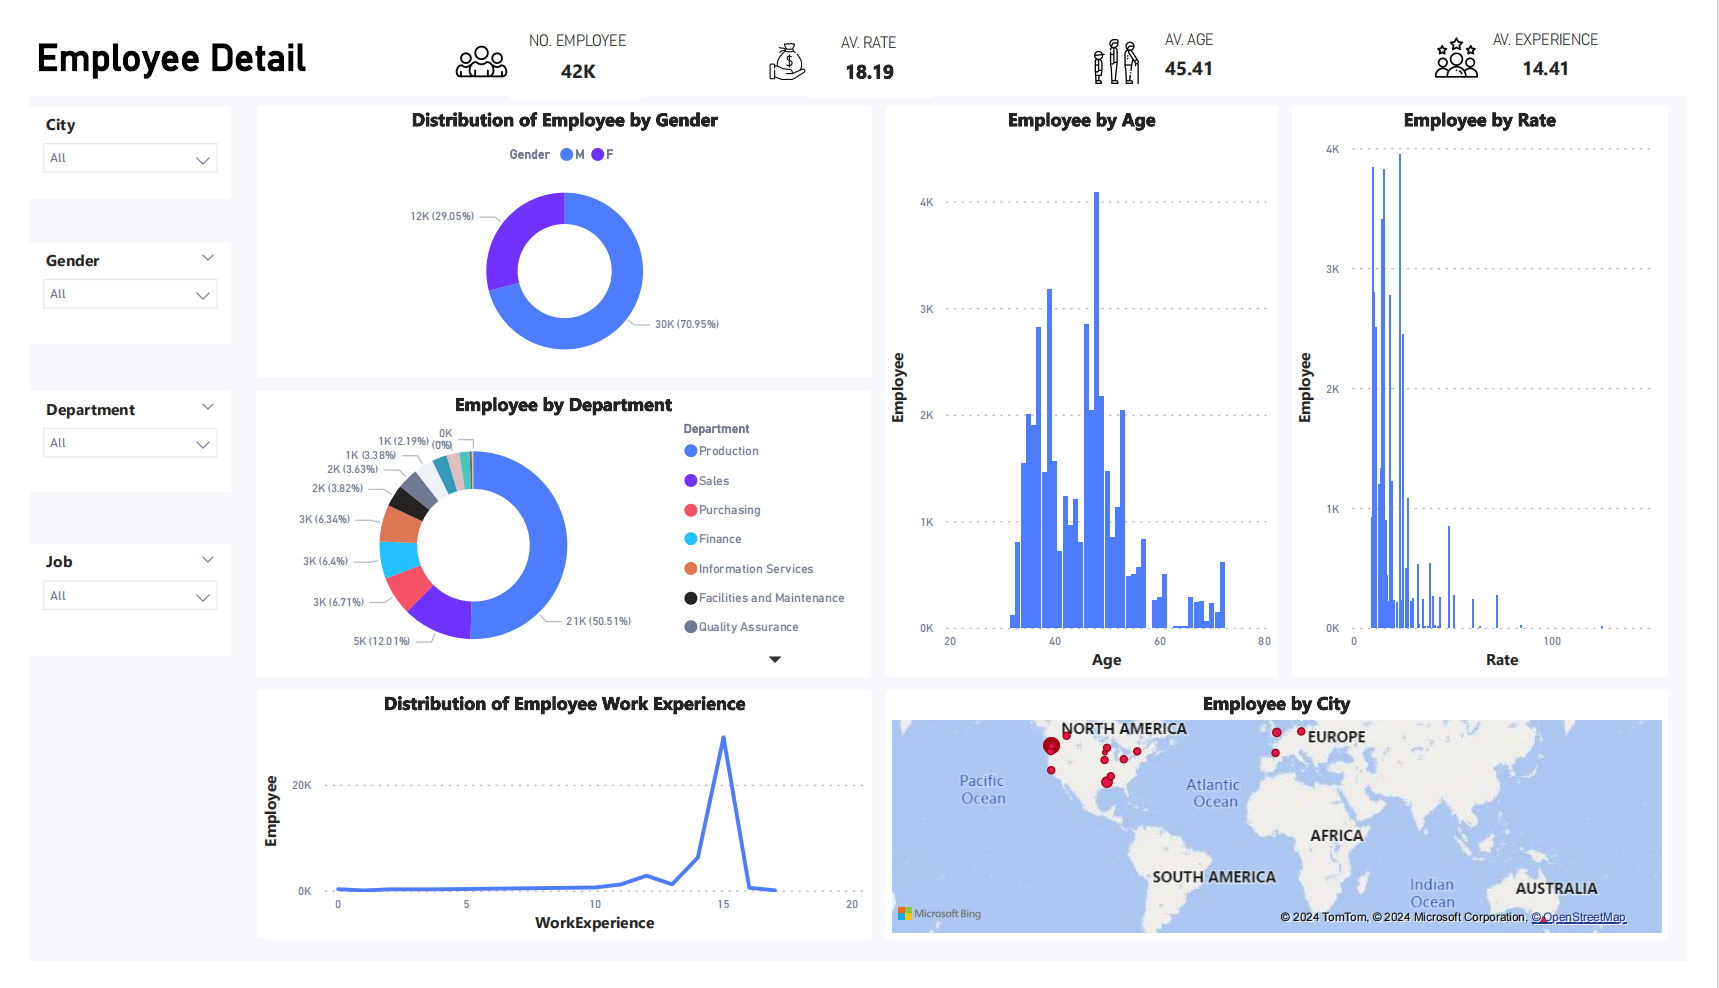

Layout of this report page (visuals, bound fields, positions):
{"tool":"powerbi","page":{"name":"HR_DASHBOARD","canvas":[1280,720],"ordinal":0},"visuals":[{"type":"map","fields":{"Category":["DimEmployee.City"],"Size":["Sum(DimEmployee.Employee)"]},"box":[661.2,511.2,603.8,191.2],"z":0},{"type":"clusteredColumnChart","title":" Employee by Age","fields":{"Category":["DimEmployee.Age"],"Y":["Sum(DimEmployee.Employee)"]},"box":[661.2,60,302.5,440],"z":1000},{"type":"donutChart","title":"Employee by Department","fields":{"Category":["DimEmployee.Department"],"Y":["Sum(DimEmployee.Employee)"]},"box":[174.9,280,474.5,220.1],"z":2000},{"type":"lineChart","title":"Distribution of Employee Work Experience","fields":{"Category":["DimEmployee.WorkExperience"],"Y":["Sum(DimEmployee.Employee)"]},"box":[176.2,511.2,473.8,191.2],"z":3000},{"type":"columnChart","title":" Employee by Rate","fields":{"Category":["DimEmployee.Rate"],"Y":["Sum(DimEmployee.Employee)"]},"box":[975,60,290,440],"z":4000},{"type":"textbox","box":[0,0,1280,51.2],"z":5000},{"type":"slicer","fields":{"Values":["DimEmployee.City"]},"box":[0,60,155,71.2],"z":6000},{"type":"slicer","fields":{"Values":["DimEmployee.Gender"]},"box":[0,165,155,77.5],"z":7000},{"type":"slicer","fields":{"Values":["DimEmployee.Department"]},"box":[0,280,155,77.5],"z":8000},{"type":"donutChart","title":"Distribution of Employee by Gender","fields":{"Category":["DimEmployee.Gender"],"Y":["Sum(DimEmployee.Employee)"]},"box":[176.2,60,473.8,208.8],"z":9000},{"type":"slicer","fields":{"Values":["DimEmployee.Job"]},"box":[0,397.5,155,86.2],"z":10000},{"type":"card","title":"NO. EMPLOYEE","fields":{"Values":["Sum(DimEmployee.Employee)"]},"box":[371.4,1.4,104.3,52.9],"z":11000},{"type":"card","title":"AV. AGE","fields":{"Values":["Avg(DimEmployee.Age)"]},"box":[838.6,0,114.3,51.4],"z":12000},{"type":"card","title":"AV. RATE","fields":{"Values":["Avg(DimEmployee.Rate)"]},"box":[600,2.9,97.1,50],"z":13000},{"type":"image","box":[558.6,5.7,51.4,38.6],"z":14000},{"type":"image","box":[812.9,2.9,51.4,44.3],"z":15000},{"type":"card","title":"AV. EXPERIENCE","fields":{"Values":["Avg(DimEmployee.WorkExperience)"]},"box":[1062.9,0,217.1,51.4],"z":16000},{"type":"image","box":[1050,1.4,104.3,41.4],"z":17000},{"type":"image","box":[301.4,0,94.3,50],"z":18000}]}

Visuals, with their boxes in screenshot pixels (x1, y1, x2, y2), scaled from the page's 1280x720 canvas onto the 1719x988 screenshot:
map - DimEmployee.City x Sum(DimEmployee.Employee): [888, 701, 1699, 964]
" Employee by Age" clusteredColumnChart: [888, 82, 1294, 686]
"Employee by Department" donutChart: [235, 384, 872, 686]
"Distribution of Employee Work Experience" lineChart: [237, 701, 873, 964]
" Employee by Rate" columnChart: [1309, 82, 1699, 686]
textbox: [0, 0, 1718, 70]
slicer - DimEmployee.City: [0, 82, 208, 180]
slicer - DimEmployee.Gender: [0, 226, 208, 333]
slicer - DimEmployee.Department: [0, 384, 208, 491]
"Distribution of Employee by Gender" donutChart: [237, 82, 873, 369]
slicer - DimEmployee.Job: [0, 545, 208, 664]
"NO. EMPLOYEE" card: [499, 2, 639, 75]
"AV. AGE" card: [1126, 0, 1280, 71]
"AV. RATE" card: [806, 4, 936, 73]
image: [750, 8, 819, 61]
image: [1092, 4, 1161, 65]
"AV. EXPERIENCE" card: [1427, 0, 1718, 71]
image: [1410, 2, 1550, 59]
image: [405, 0, 531, 69]
